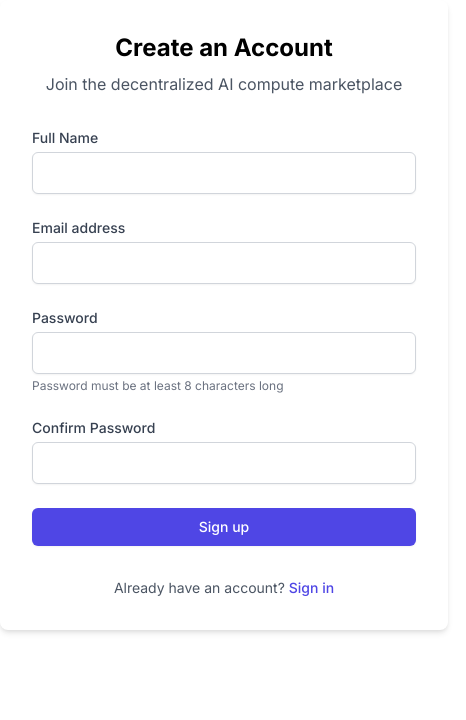
Test: SignUpForm › handles unexpected errors
This screenshot has width=466, height=720.
Fill in the form
Step 1. Type "Test User" into the field labelled "Full Name" → (224, 173), box left=32, top=152, right=416, bottom=194
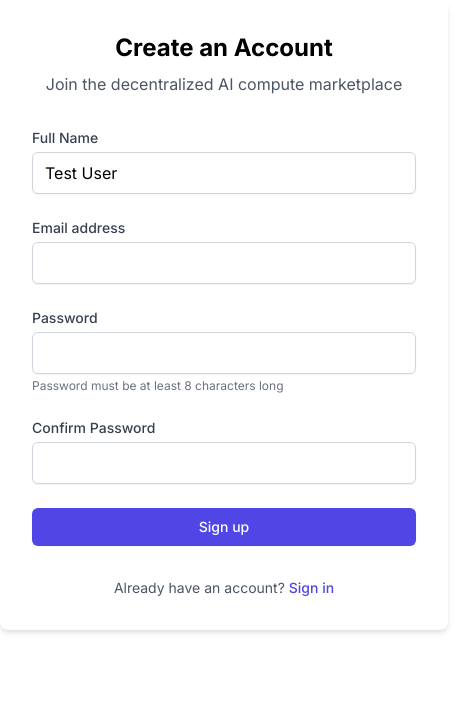
Step 2. Type "test@example.com" into the field labelled "Email address" → (224, 263), box left=32, top=242, right=416, bottom=284
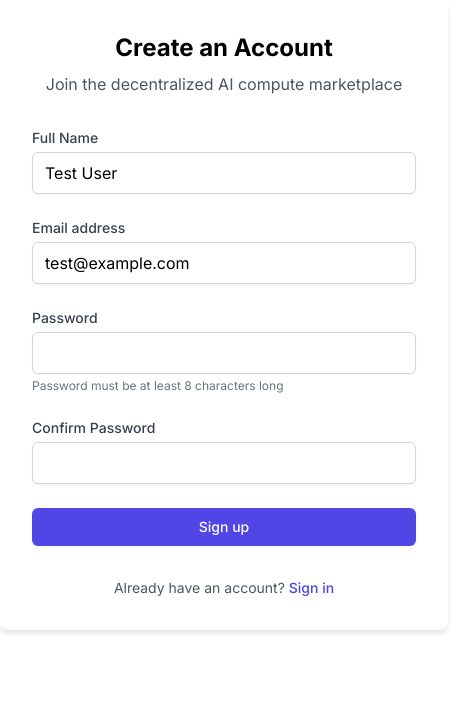
Use a more specific selector to avoid ambiguity with multiple password fields
Step 3. Type "password123" into the password field labelled "Password" → (224, 353), box left=32, top=332, right=416, bottom=374
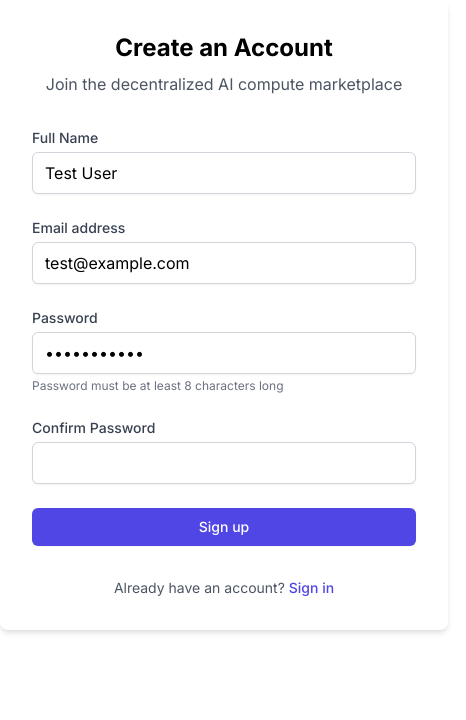
Step 4. Type "password123" into the password field labelled "Confirm Password" → (224, 463), box left=32, top=442, right=416, bottom=484
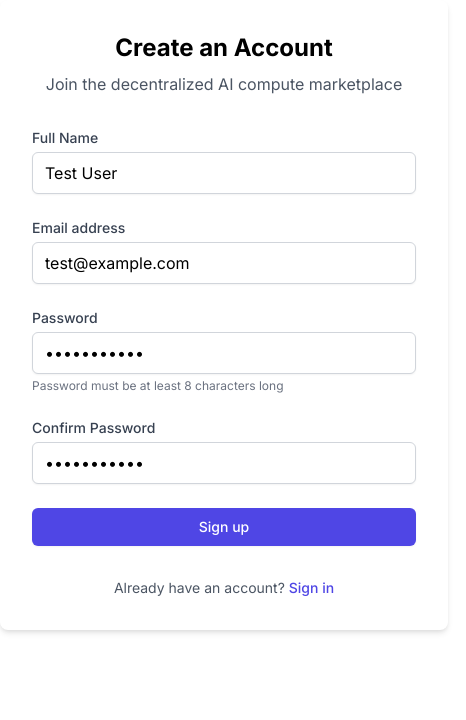
Submit the form
Step 5. Click the button "Sign up" → (224, 527), box left=32, top=508, right=416, bottom=546
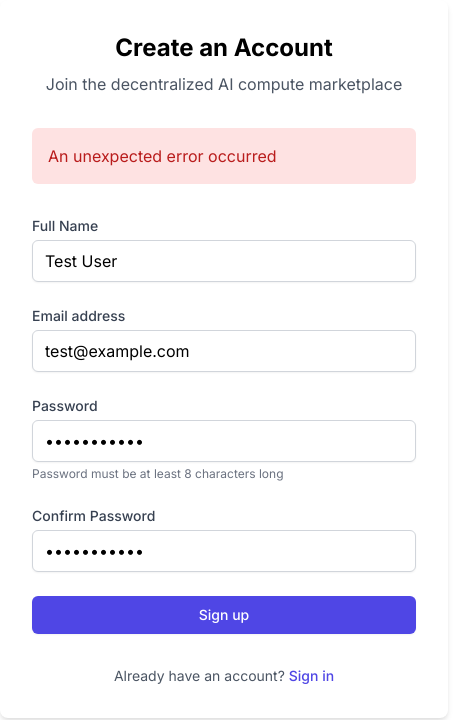
Now the text "An unexpected error occurred" is shown, box left=32, top=128, right=416, bottom=184
